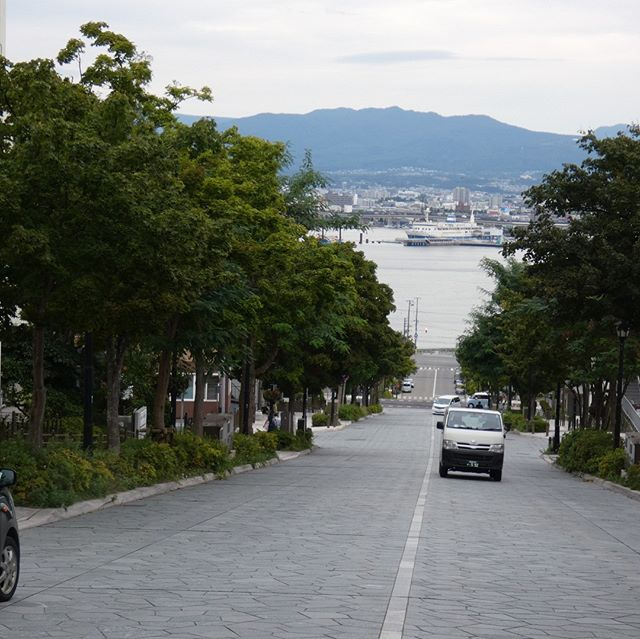car: (433, 402, 514, 491)
mountain: (231, 84, 559, 146)
sky: (1, 1, 640, 92)
street: (19, 407, 640, 639)
vegetation: (1, 67, 412, 411), (462, 154, 640, 438)
